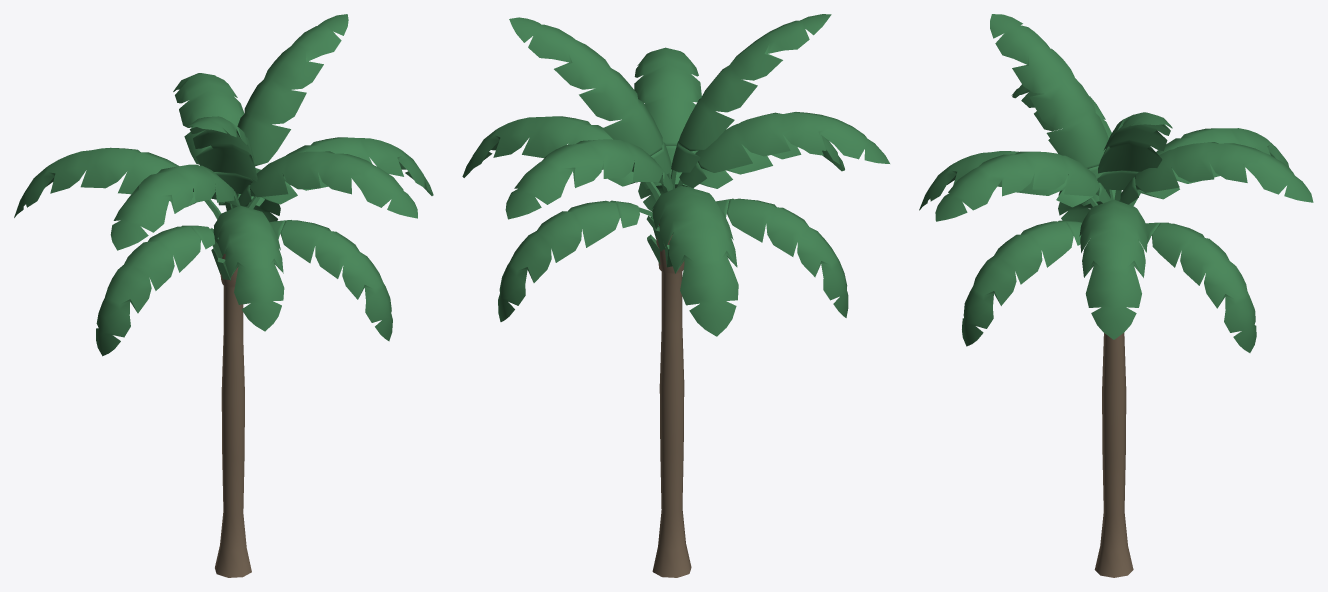
File: PalmTree02.fbx
3 renders of one model, left to right at view 1: azimuth 30°, elevation 25°; view 2: azimuth 150°, elevation 25°; view 3: azimuth 270°, elevation 25°, orthographic. The views are drawn at different scales.
Visible parts, largest first — view 1: PalmTree02; view 2: PalmTree02; view 3: PalmTree02.
Part boxes in pixels (<box>): PalmTree02: <box>14,14,433,577</box>; PalmTree02: <box>462,14,889,577</box>; PalmTree02: <box>919,14,1313,577</box>.
Bounding box in the file's own units: 0.5565 × 0.7489 × 0.5237.
